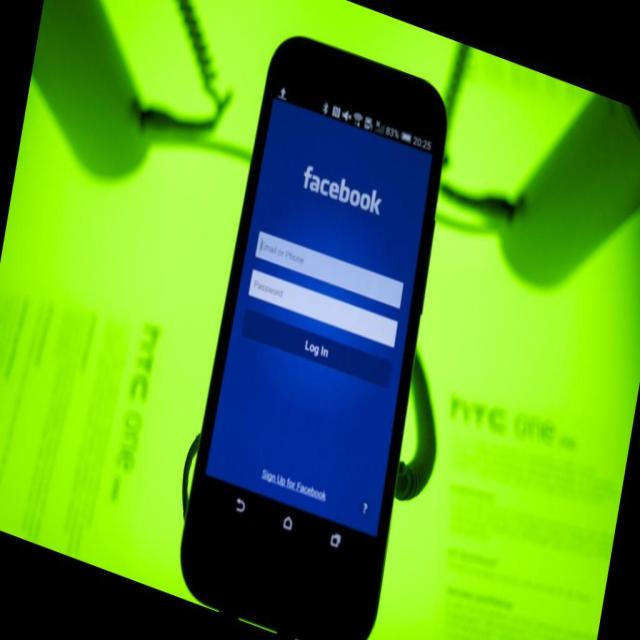handphone: (180, 43, 447, 640)
